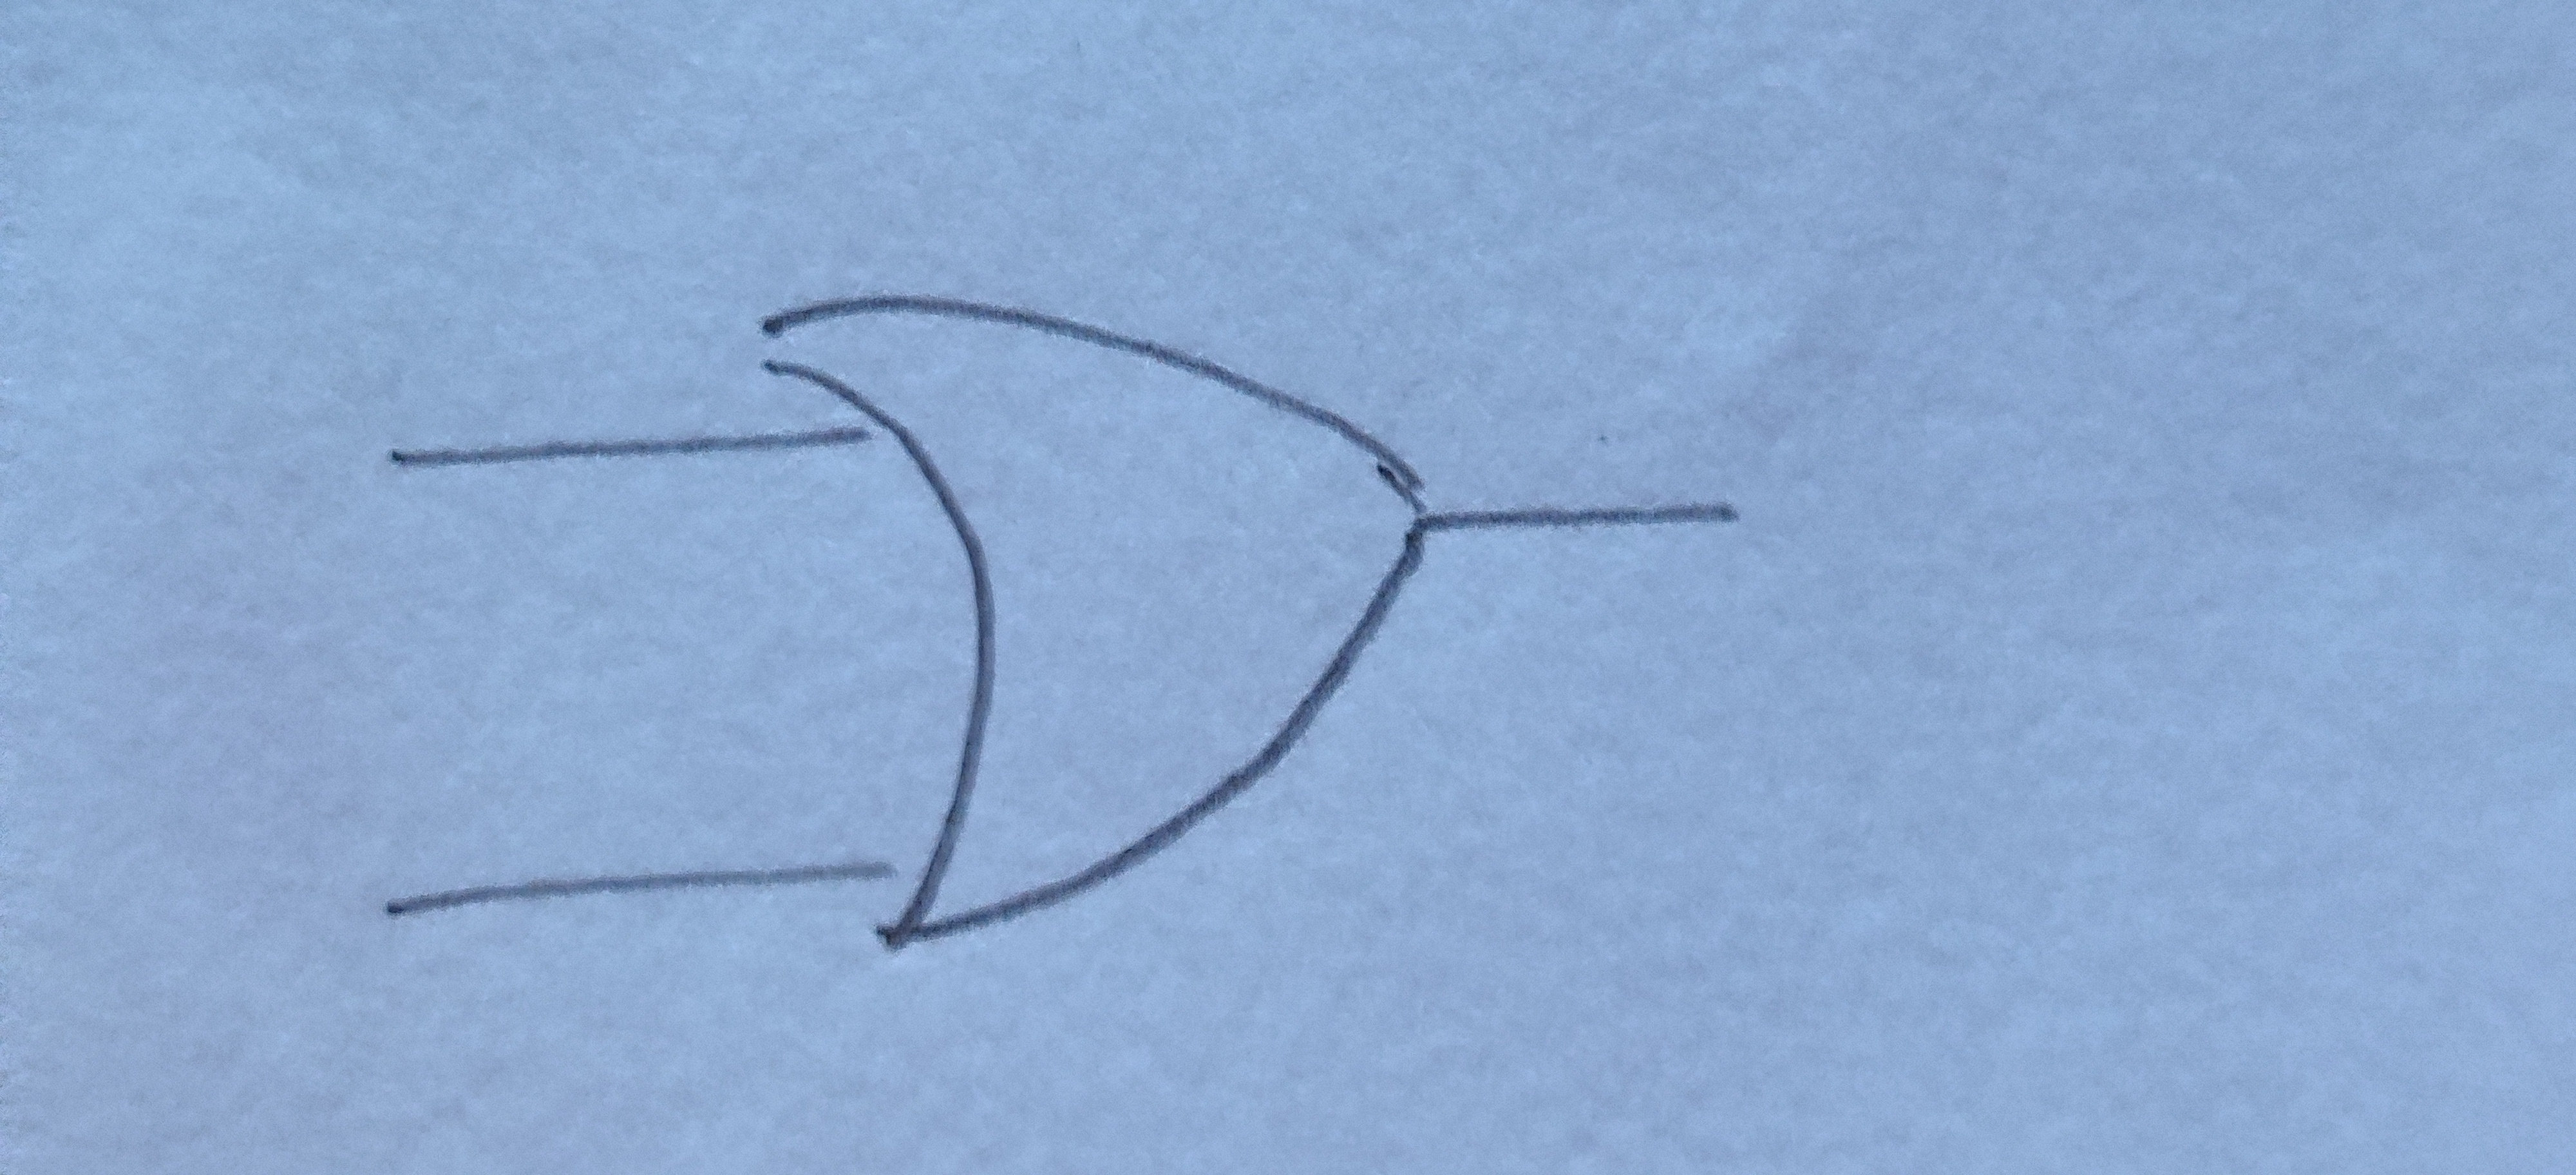or: (774, 299, 1431, 950)
